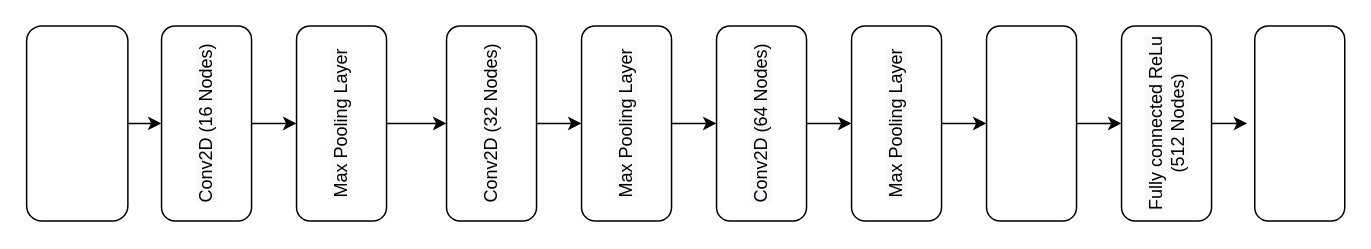
Some shapes in this 1371 by 249 pixel diagram are drawn without their labels. The centre of each missing label's shape, as x and y in pixels:
"Flatten Layer" goes at pixel 1031 122.
"Input Layer" goes at pixel 76 122.
"Output Layer" goes at pixel 1299 122.
